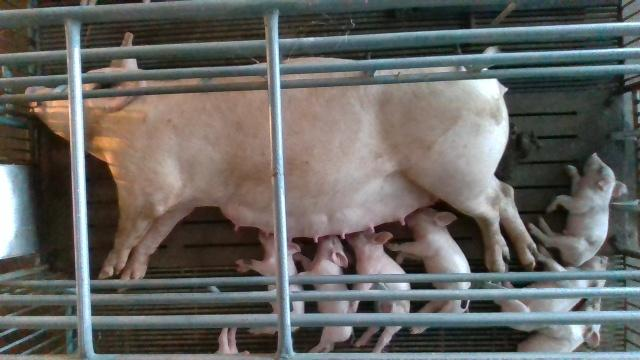piglet: (528, 153, 630, 266), (387, 207, 473, 333), (490, 256, 608, 332), (342, 233, 410, 352), (293, 234, 355, 353), (234, 230, 304, 333), (518, 299, 601, 352)
sow-sleep-lactate: (26, 32, 537, 291)
